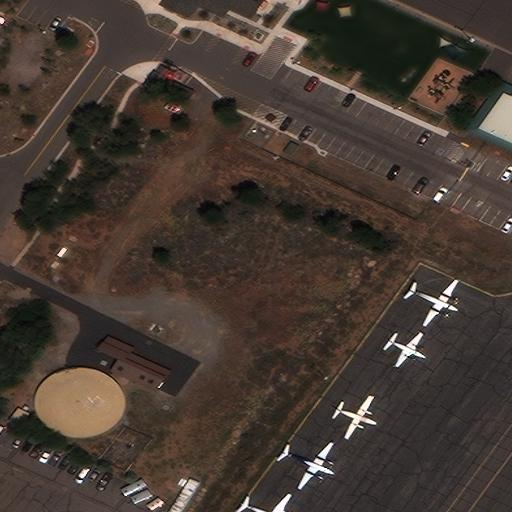Medium Civil Transport: (281, 443, 334, 490), (409, 281, 459, 327), (335, 396, 376, 439), (240, 495, 292, 512)
Small Civil Transport: (389, 333, 425, 367)
